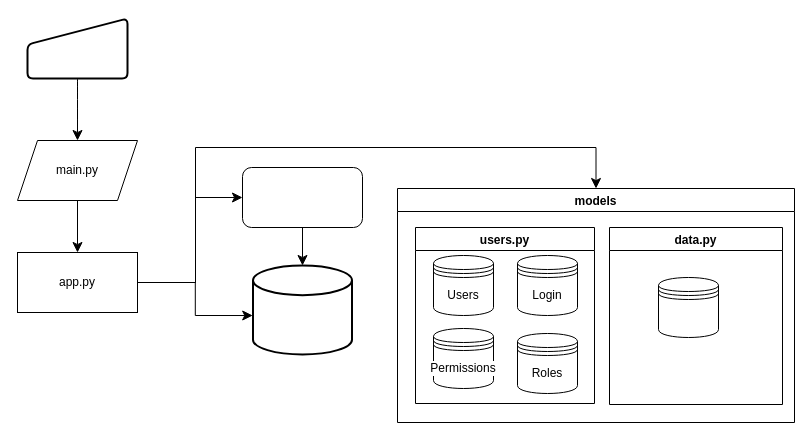
Image size: 812x440. Some labels were removed from this diagram. The centre of each missing label's shape, as x and y in pixels:
"another data" belongs at (x=688, y=307).
"config.json" belongs at (x=77, y=48).
"database.py" belongs at (x=302, y=309).
"dbconfig.py" belongs at (x=302, y=197).
